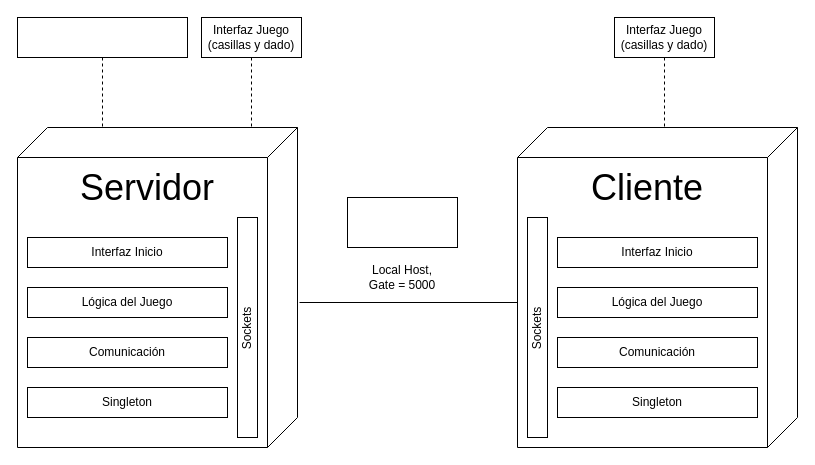
Image size: 815x465. Some labels were removed from this diagram. The centre of each missing label's shape, as x and y in pixels:
"Lista Doblemente Enlazada" goes at (102,72).
"Mensaje" goes at (402,222).
